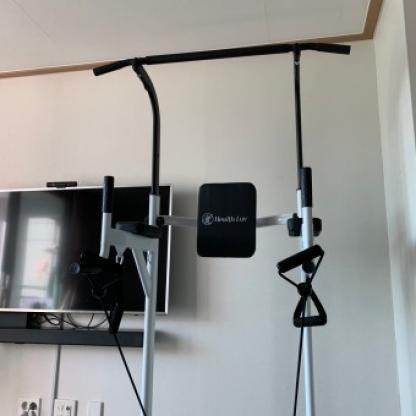chinning dipping: (92, 43, 351, 416)
